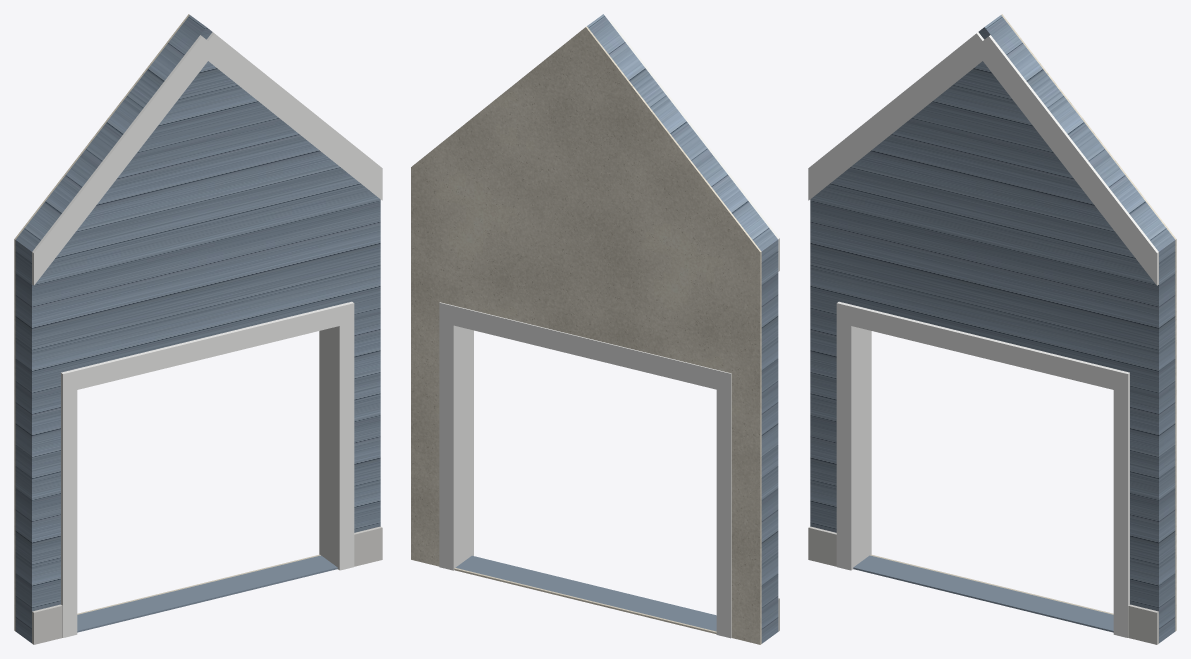
Rendered from garage_gable_front.glb.
3 renders of one model, left to right at view 1: azimuth 30°, elevation 25°; view 2: azimuth 150°, elevation 25°; view 3: azimuth 330°, elevation 25°, orthographic.
Visible parts, largest first — view 1: garage_gable_front_siding, garage_gable_front_trim, garage_gable_front_concrete, garage_gable_front_plaster; view 2: garage_gable_front_plaster, garage_gable_front_trim, garage_gable_front_siding; view 3: garage_gable_front_siding, garage_gable_front_trim, garage_gable_front_concrete, garage_gable_front_plaster.
Part boxes in pixels (bbox=[...]): garage_gable_front_siding: bbox=[15, 15, 380, 643]; garage_gable_front_trim: bbox=[32, 32, 382, 637]; garage_gable_front_concrete: bbox=[32, 526, 382, 644]; garage_gable_front_plaster: bbox=[14, 14, 320, 631]; garage_gable_front_plaster: bbox=[411, 26, 761, 644]; garage_gable_front_trim: bbox=[439, 21, 779, 638]; garage_gable_front_siding: bbox=[455, 14, 778, 643]; garage_gable_front_siding: bbox=[810, 15, 1175, 643]; garage_gable_front_trim: bbox=[808, 32, 1158, 637]; garage_gable_front_concrete: bbox=[808, 526, 1158, 644]; garage_gable_front_plaster: bbox=[870, 14, 1176, 631].
Size of the model in its own units: 3.4 by 5.35 by 0.345.
Materials: 4 (2 with a texture image).
